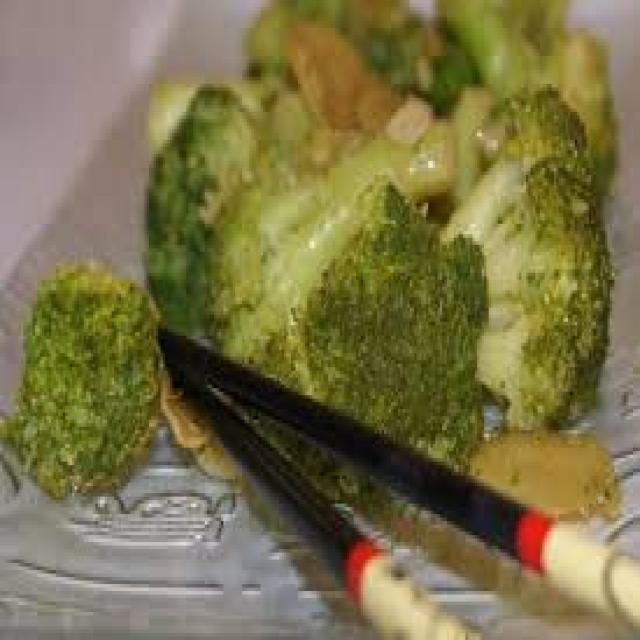broccoli: (99, 51, 633, 462), (0, 227, 177, 504)
